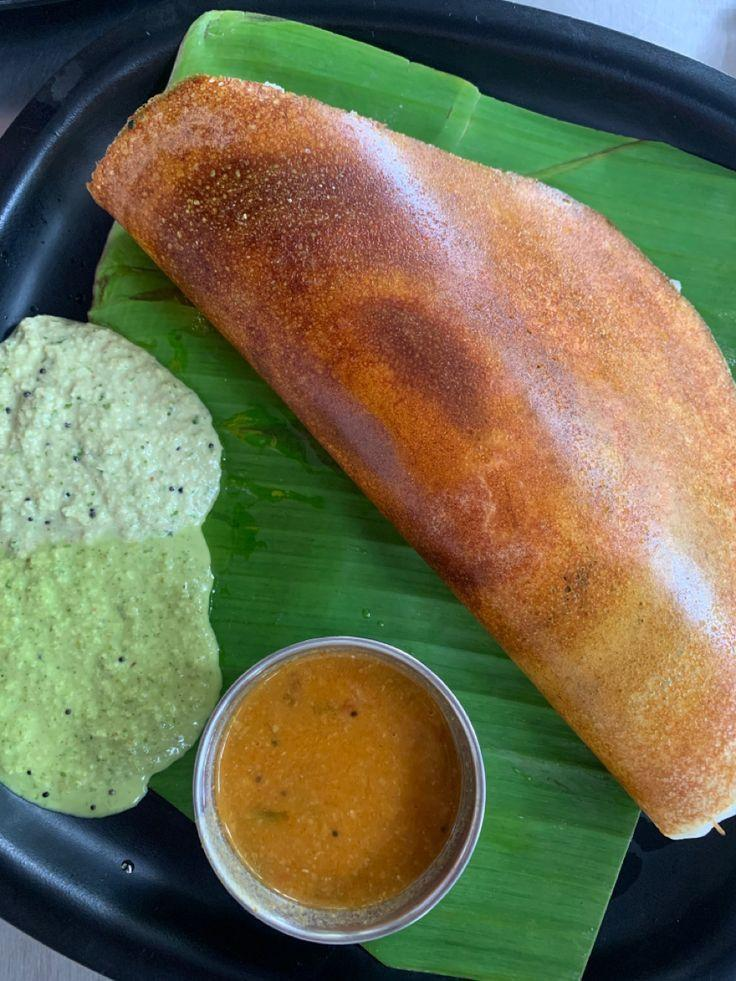dosa: (186, 73, 736, 760)
